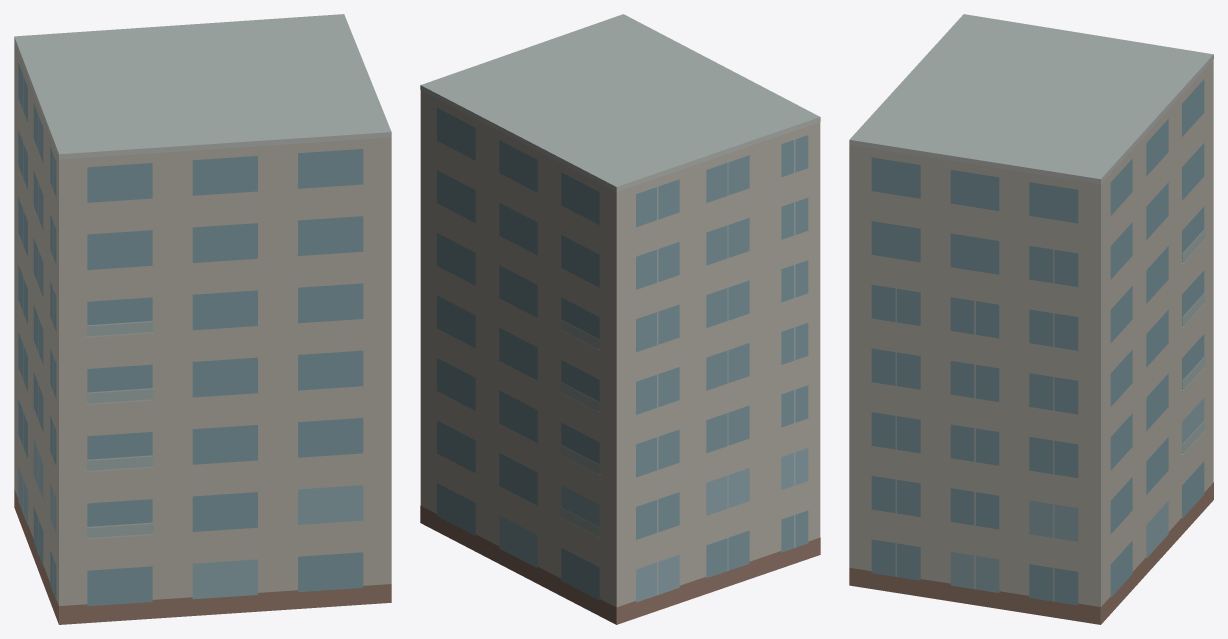
Rendered from survey-upis-32989385.glb.
3 renders of one model, left to right at view 1: azimuth 30°, elevation 25°; view 2: azimuth 150°, elevation 25°; view 3: azimuth 270°, elevation 25°, orthographic. The views are drawn at different scales.
Visible parts, largest first — view 1: survey-upis-32989385.tmp; view 2: survey-upis-32989385.tmp; view 3: survey-upis-32989385.tmp.
Part boxes in pixels (box(x1,y1,x2,y2)): survey-upis-32989385.tmp: box(14, 14, 391, 624); survey-upis-32989385.tmp: box(420, 14, 820, 624); survey-upis-32989385.tmp: box(849, 14, 1213, 624).
Bounding box in the file's own units: 17.22 × 21.65 × 16.05.
